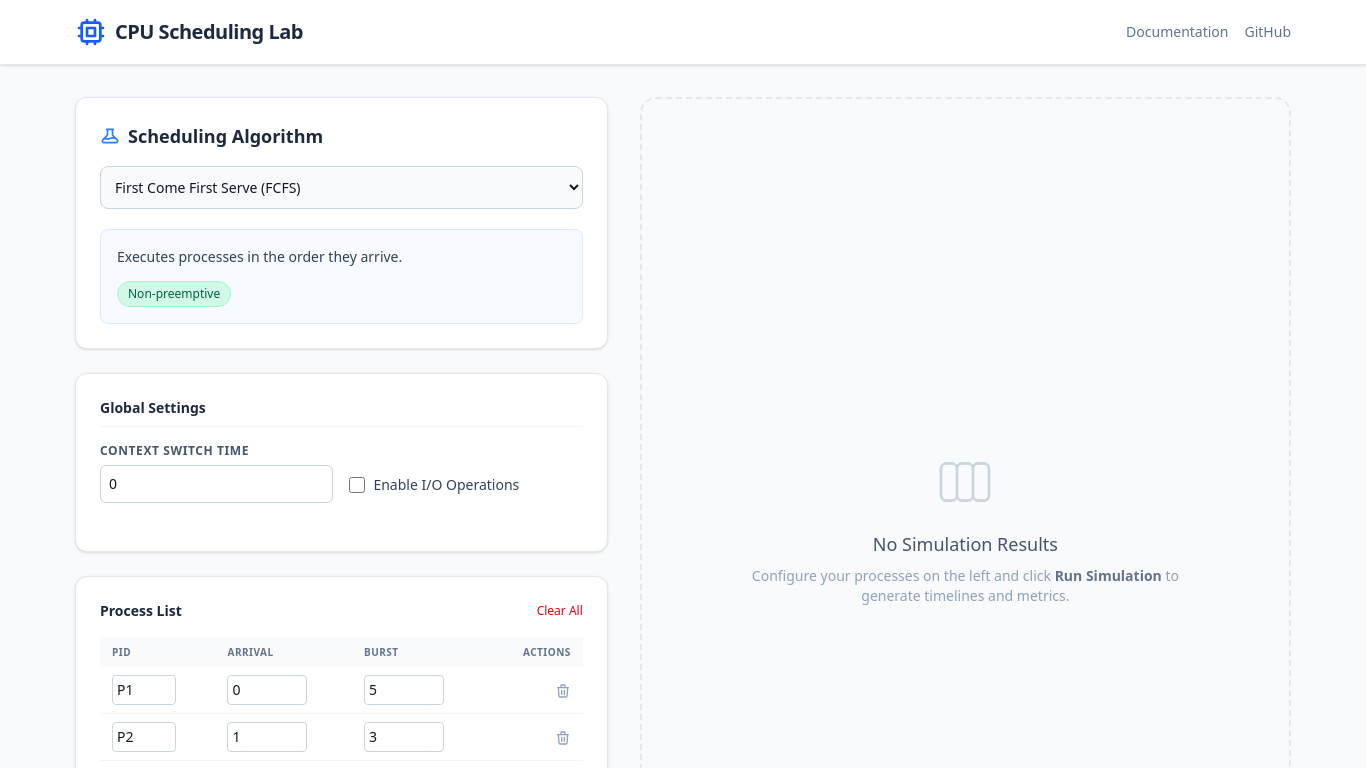
Scenario: App Integration › 2. Selecting an algorithm updates the configuration panel
Select "Multilevel Feedback Queue (MLFQ)" in the dropdown at (341, 188), box [100,166,583,209]
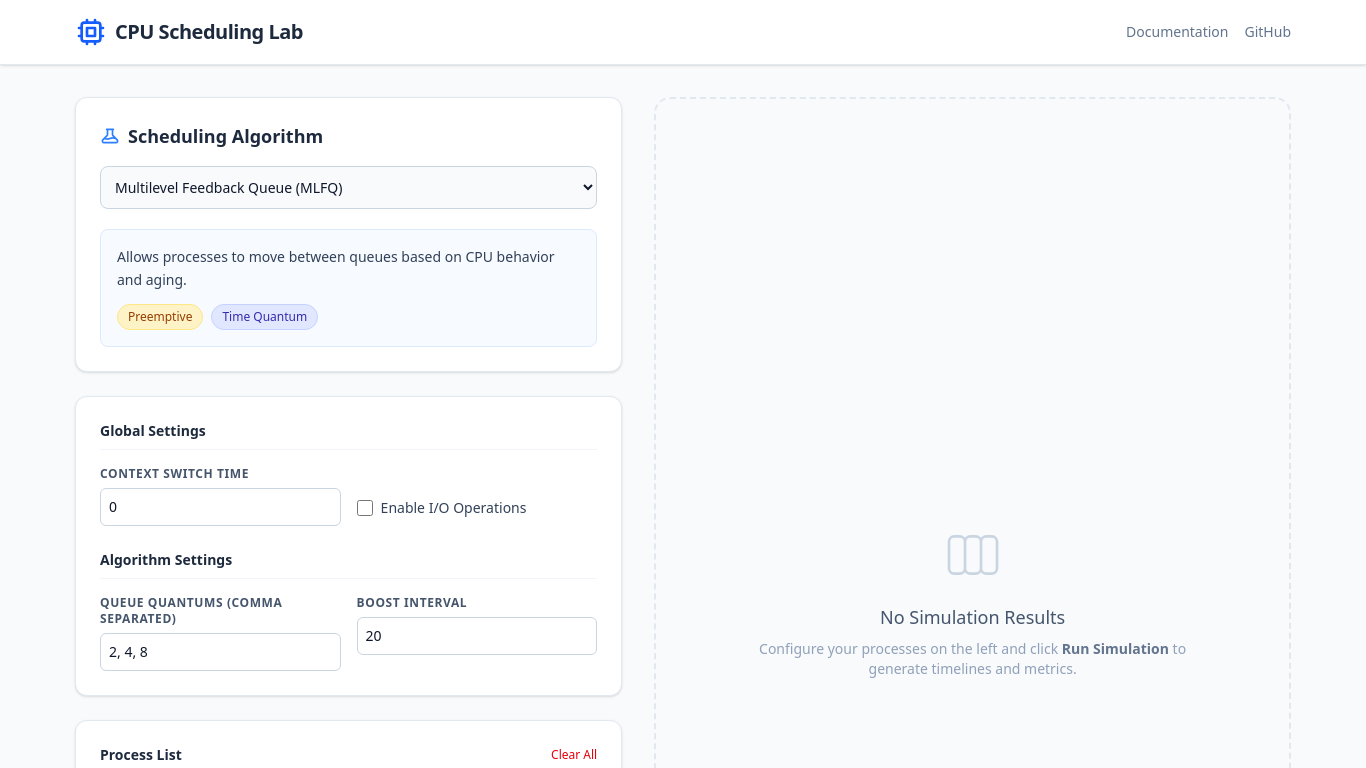
Check: the text "Queue Quantums (comma separated)" is shown, box [100,594,282,626]
